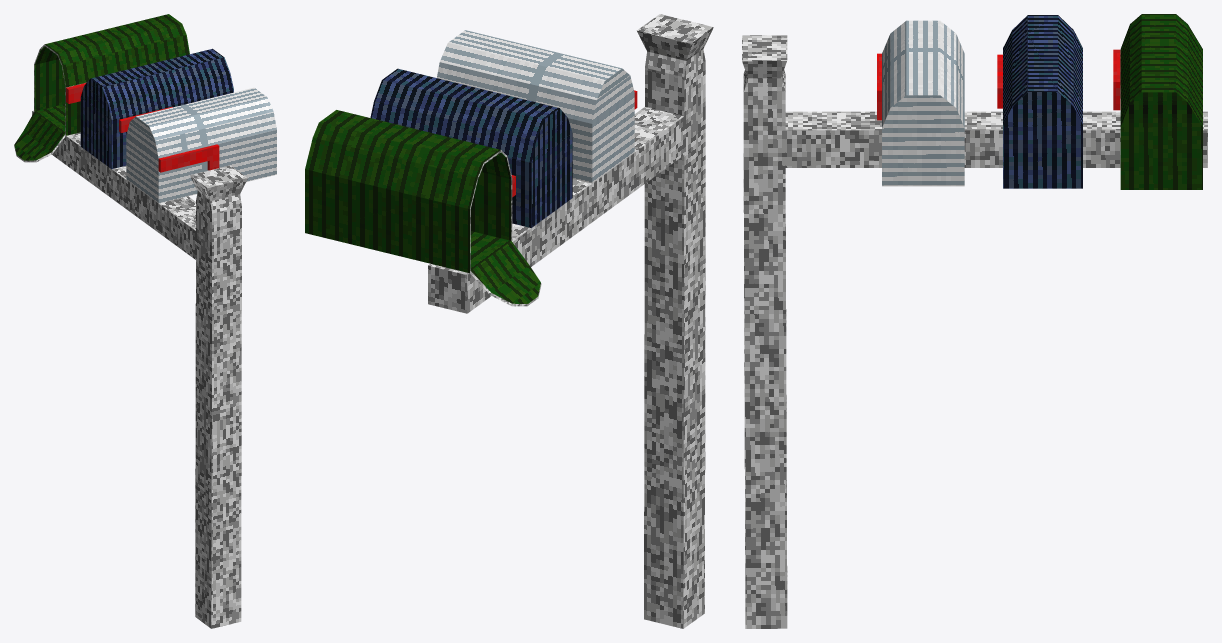
The model's file is BLOCKYGONM_MAILBOX.fbx.
3 views of the same model, side by side, from view 1: azimuth 30°, elevation 25°; view 2: azimuth 150°, elevation 25°; view 3: azimuth 270°, elevation 25° (orthographic). The views are drawn at different scales.
Parts seen in each view (by area): view 1: BLOCKYGONM_MAILBOX; view 2: BLOCKYGONM_MAILBOX; view 3: BLOCKYGONM_MAILBOX.
Part boxes in pixels (x1,y1,x2,y2): BLOCKYGONM_MAILBOX: (14, 14, 276, 628); BLOCKYGONM_MAILBOX: (305, 14, 713, 628); BLOCKYGONM_MAILBOX: (742, 14, 1207, 628).
Size of the model in its own units: 74.77 by 213 by 151.
Materials: 5 (5 with a texture image).
